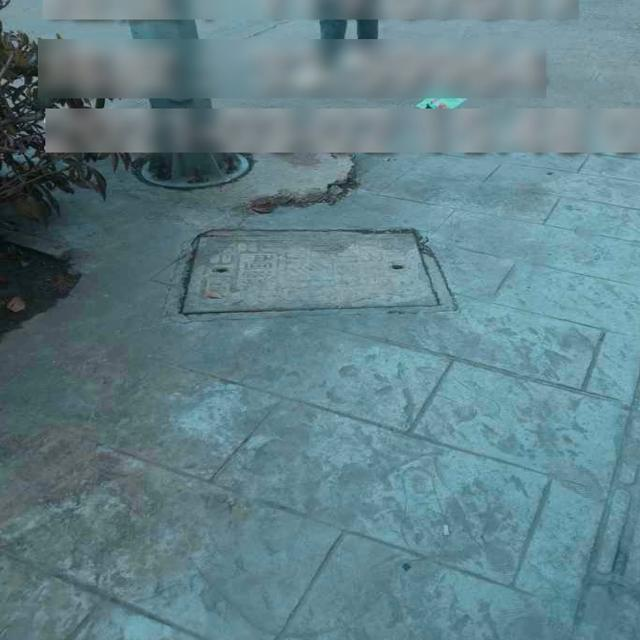good: (168, 226, 460, 321)
